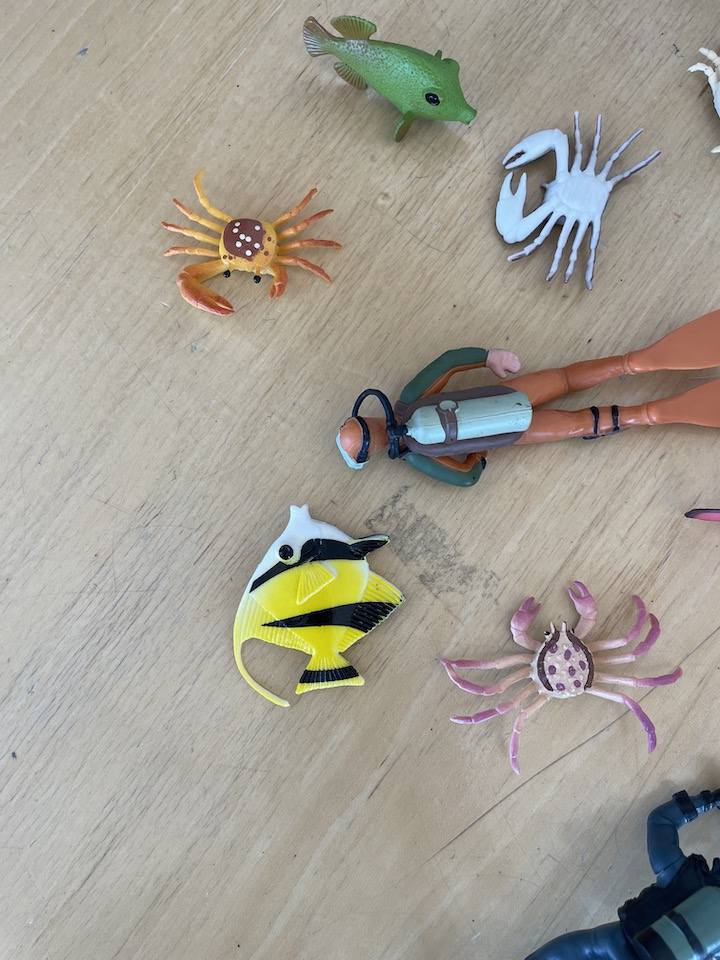crab: (434, 579, 687, 779), (491, 104, 666, 293), (159, 171, 347, 319), (687, 40, 720, 162)
danger: (231, 500, 405, 714)
diver: (331, 304, 720, 489), (523, 784, 720, 960)
fish: (295, 9, 481, 149)
